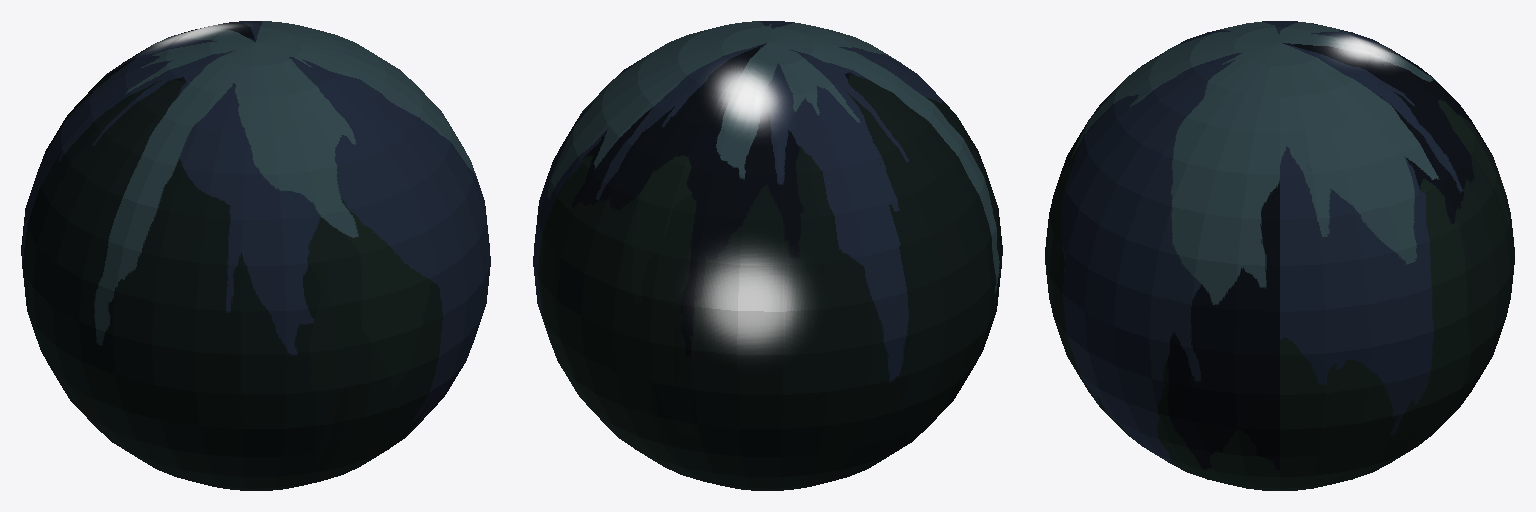
The picture shows the model from 3 angles: view 1: azimuth 30°, elevation 25°; view 2: azimuth 150°, elevation 25°; view 3: azimuth 270°, elevation 25°; orthographic projection.
Parts seen in each view (by area): view 1: 球; view 2: 球; view 3: 球.
Boxes of the visible parts, x1,y1,x2,y2 form: 球: [21, 21, 490, 490]; 球: [533, 21, 1002, 490]; 球: [1045, 21, 1514, 490].
Bounding box in the file's own units: 4 × 4 × 4.
Materials: 1 (1 with a texture image).